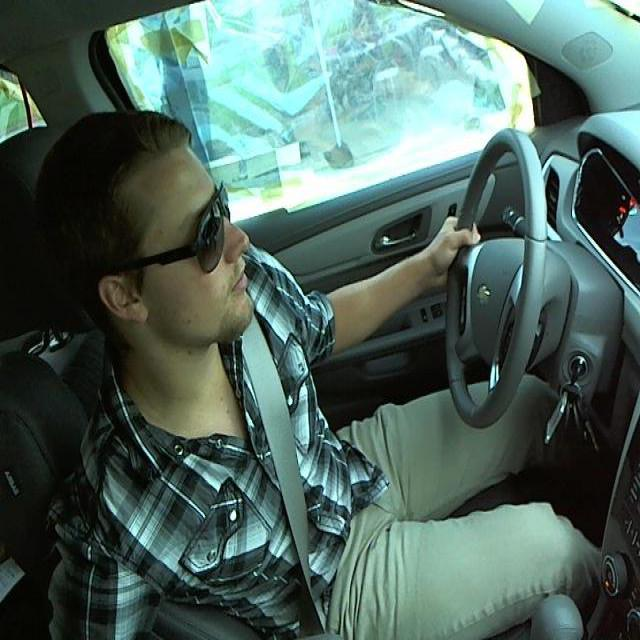seatbelt: (250, 302, 349, 638)
